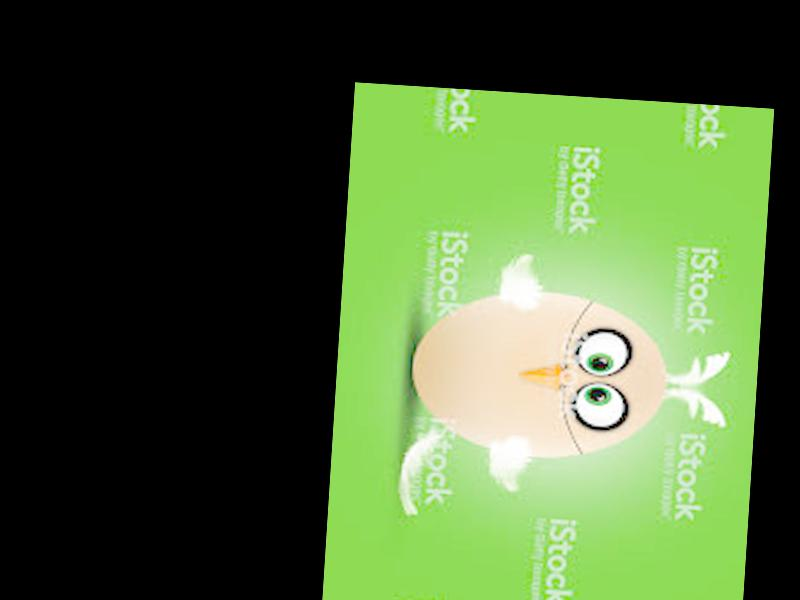Eggs: (405, 286, 671, 465)
